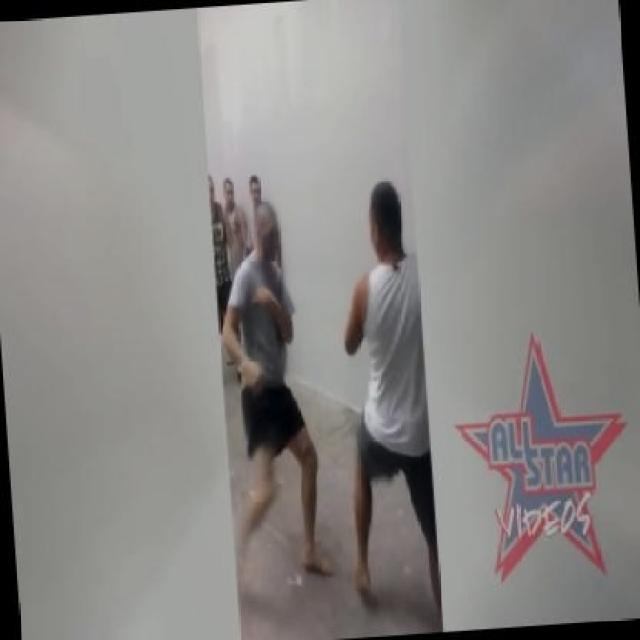fight: (220, 177, 431, 612)
